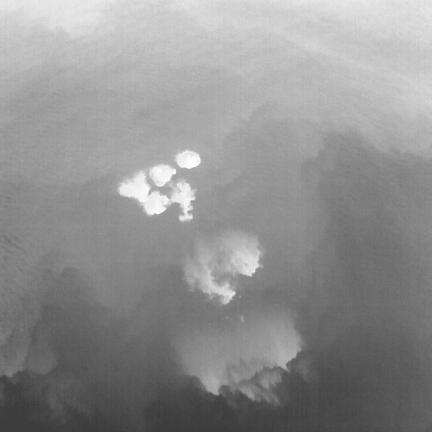flukeprints: (118, 171, 150, 204), (142, 191, 169, 214), (149, 165, 176, 186), (176, 150, 200, 169)
